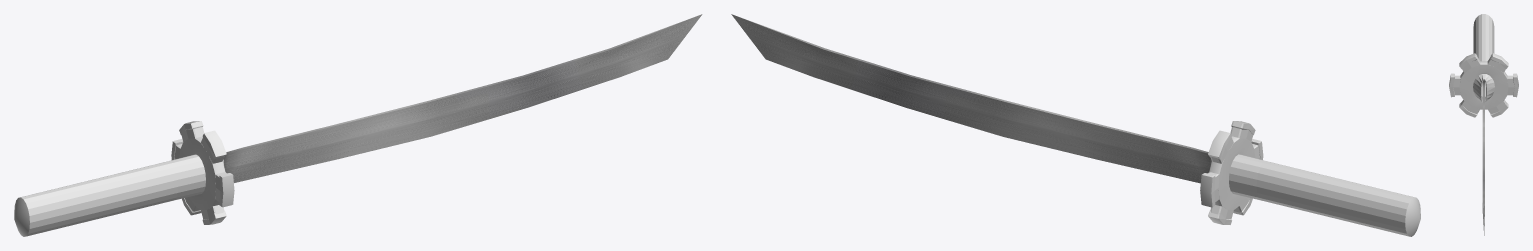
File: sword.fbx
3 views of the same model, side by side, from view 1: azimuth 30°, elevation 25°; view 2: azimuth 150°, elevation 25°; view 3: azimuth 270°, elevation 25° (orthographic). The views are drawn at different scales.
Visible parts, largest first — view 1: Plane001, Object003, Cylinder001; view 2: Plane001, Object003, Cylinder001; view 3: Cylinder001, Object003, Plane001.
Part boxes in pixels (x1=…): Plane001: x1=223, y1=14, x2=702, y2=182; Object003: x1=14, y1=154, x2=205, y2=236; Cylinder001: x1=171, y1=121, x2=234, y2=224; Plane001: x1=731, y1=14, x2=1210, y2=183; Object003: x1=1229, y1=154, x2=1420, y2=236; Cylinder001: x1=1200, y1=121, x2=1263, y2=224; Cylinder001: x1=1449, y1=53, x2=1518, y2=117; Object003: x1=1473, y1=14, x2=1494, y2=96; Plane001: x1=1482, y1=80, x2=1484, y2=235.
Size of the model in its own units: 1237 by 158 by 163.
1 material, 1 textured.
